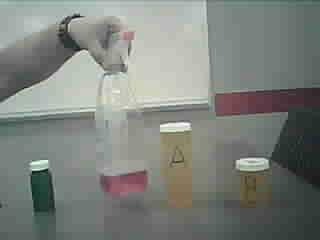Bottle A: (159, 119, 201, 211)
Bottle B: (235, 147, 276, 217)
Bottle C: (25, 159, 62, 219)
hazard: (94, 29, 152, 207)
